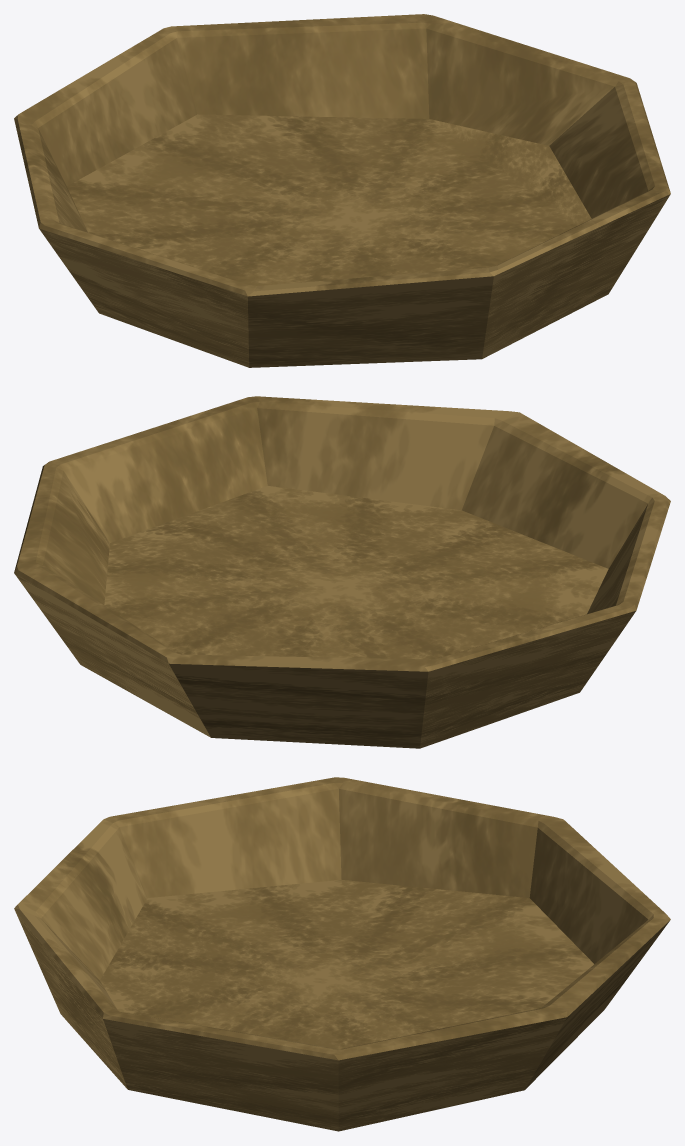
Rendered from nest.fbx.
3 renders of one model, top to bottom at view 1: azimuth 30°, elevation 25°; view 2: azimuth 150°, elevation 25°; view 3: azimuth 270°, elevation 25°, orthographic. The views are drawn at different scales.
Parts seen in each view (by area): view 1: Cylinder; view 2: Cylinder; view 3: Cylinder.
Part boxes in pixels (left/top/right/bottom): Cylinder: left=14, top=14, right=670, bottom=367; Cylinder: left=14, top=396, right=670, bottom=748; Cylinder: left=14, top=777, right=670, bottom=1131.
Size of the model in its own units: 177 by 30.12 by 175.
